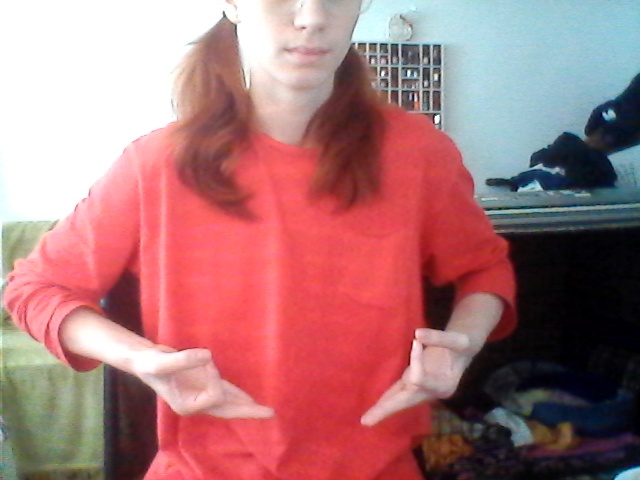preco: (148, 306, 475, 432)
